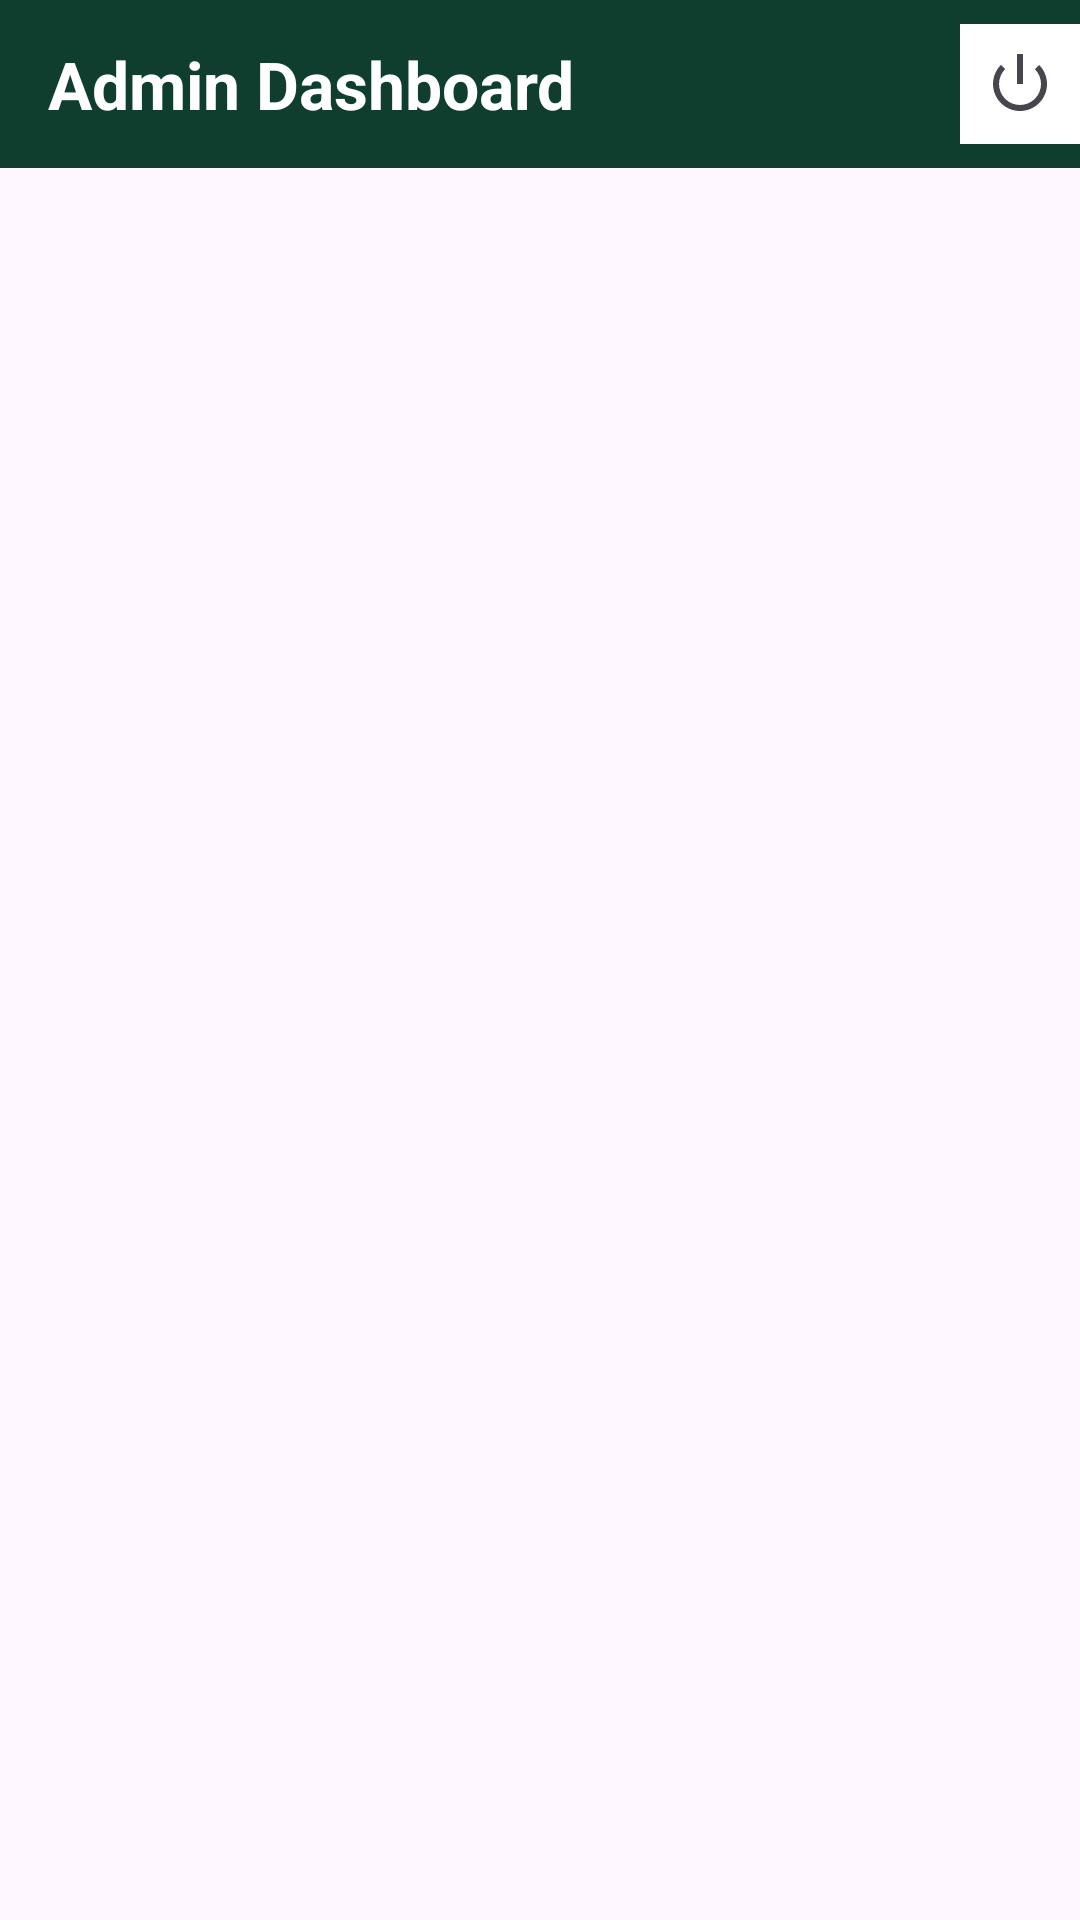

Screen size 1080 x 1920. Icon name, then its box in pixels as {"x1": x1, "y1": y1, "x2": x2, "y2": y2}:
lock power off: {"x1": 960, "y1": 24, "x2": 1080, "y2": 144}
